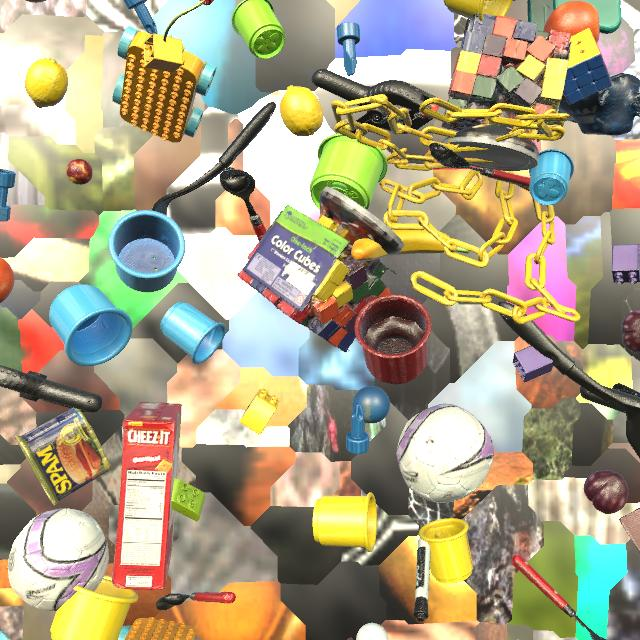ycb_003_cracker_box: (112, 402, 182, 590)
ycb_010_potted_meat_can: (15, 408, 112, 506)
ycb_011_banana: (351, 229, 470, 261)
ycb_014_lemon: (280, 86, 324, 137), (25, 59, 68, 108)
ycb_017_orange: (543, 1, 599, 43), (0, 257, 15, 303), (26, 0, 46, 3)
ycb_018_plum: (584, 470, 629, 514), (621, 310, 640, 353)
